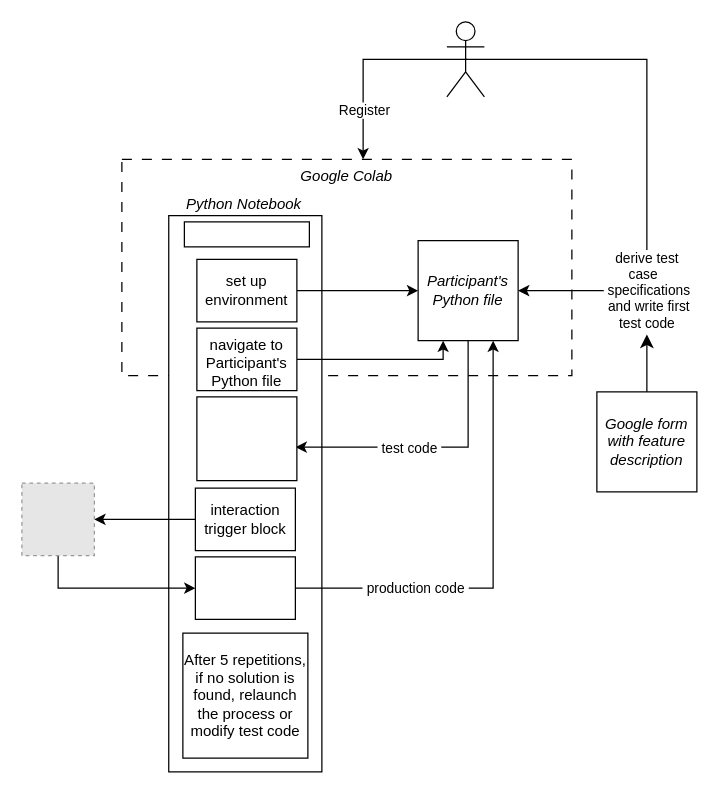
This 719x794 diagram has some shape labels left out. Grey dashed boxes stand in for pictures. The centre of each missing label's shape, as x and y in pixels:
"parse output to search for code snippet" goes at [244,587].
"Participant" goes at [465,59].
"Repeat 5 times" goes at [246,234].
"test code execution and error trace capture" goes at [246,438].
